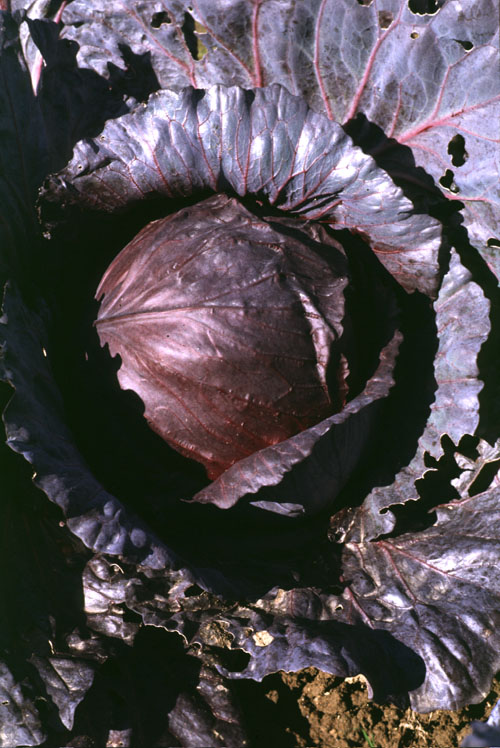cabbage: (1, 80, 496, 609)
